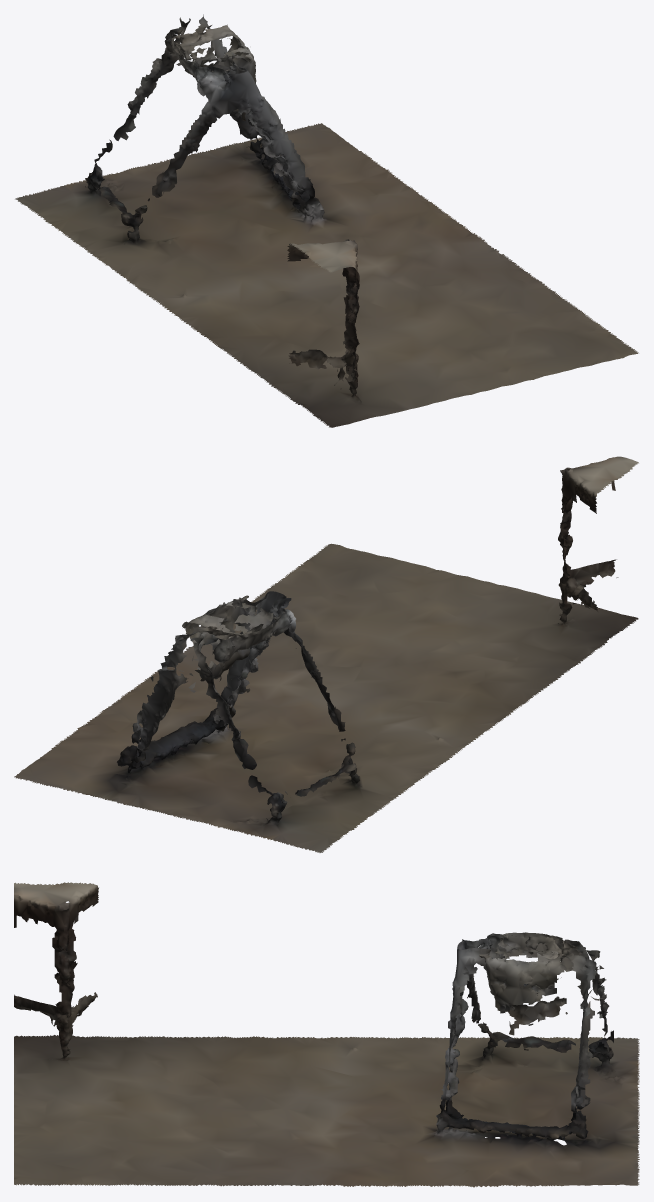
The model's file is medium.glb.
3 renders of one model, top to bottom at view 1: azimuth 30°, elevation 25°; view 2: azimuth 150°, elevation 25°; view 3: azimuth 270°, elevation 25°, orthographic.
Bounding box in the file's own units: 1.32 × 0.656 × 2.34.
